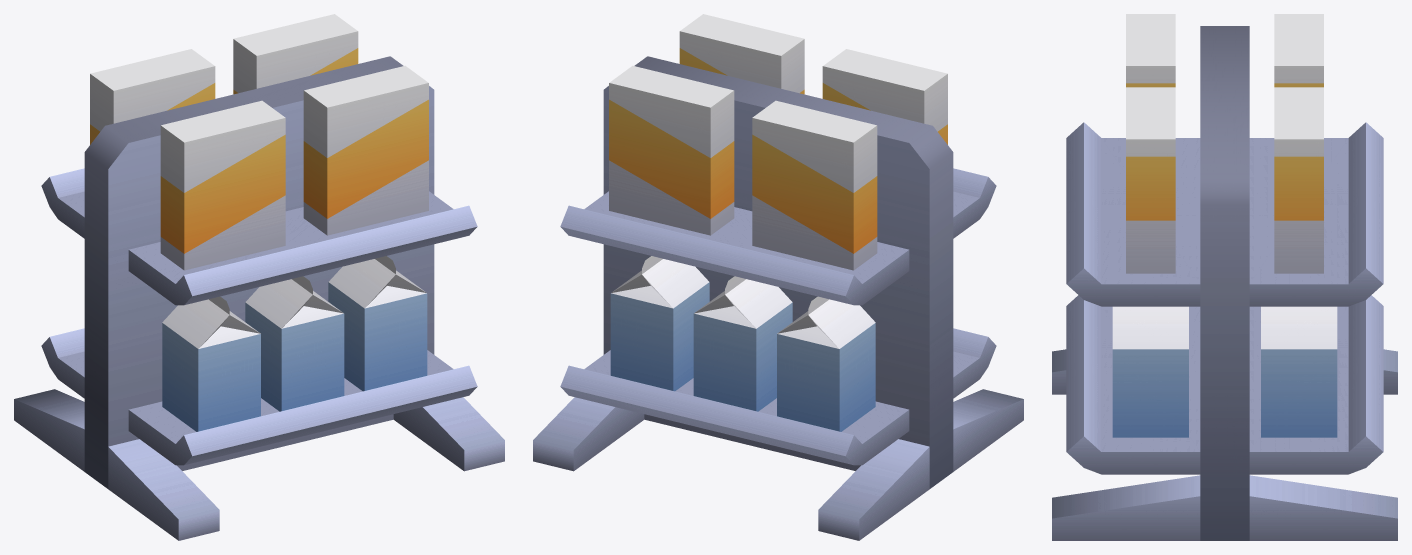
3 views of the same model, side by side, from view 1: azimuth 30°, elevation 25°; view 2: azimuth 150°, elevation 25°; view 3: azimuth 270°, elevation 25° (orthographic). The views are drawn at different scales.
Visible parts, largest first — view 1: shelf-boxes, box (×4), carton (×3); view 2: shelf-boxes, box (×4), carton (×3); view 3: shelf-boxes, box (×4), carton (×2).
Boxes of the visible parts, x1,y1,x2,y2 form: shelf-boxes: (14,56,504,540); box (×4): (90,14,428,270); carton (×3): (162,256,427,431); shelf-boxes: (533,56,1023,540); box (×4): (609,14,947,270); carton (×3): (610,256,875,431); shelf-boxes: (1052,26,1397,540); box (×4): (1126,14,1323,273); carton (×2): (1112,306,1337,437).
Size of the model in its own units: 1.88 by 2 by 1.65.
Materials: 1 (1 with a texture image).
